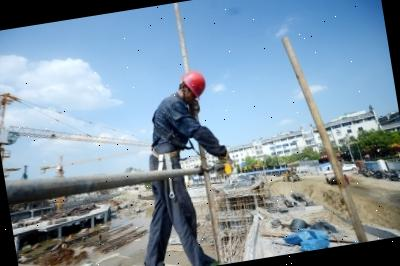helmet: (178, 66, 212, 100)
wear: (150, 103, 195, 165)
